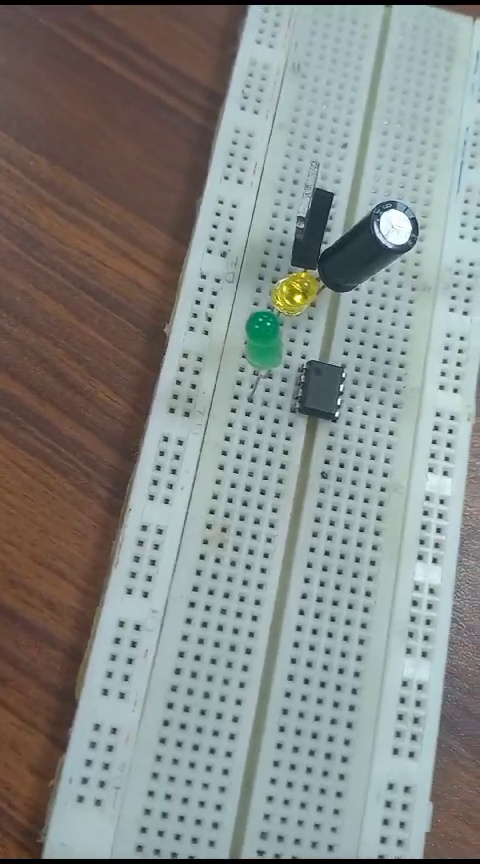IC: (302, 348, 355, 429)
LED: (243, 315, 287, 392), (268, 264, 322, 313)
capacitor: (343, 187, 416, 289)
voltage regulator: (296, 157, 335, 275)
